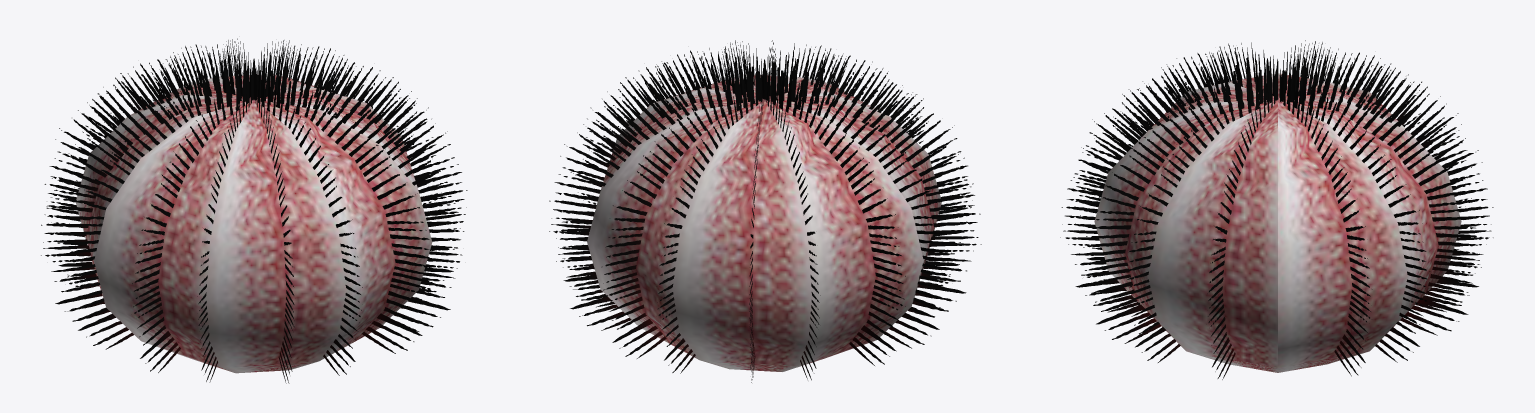
Rendered from urchinHairShortRed.fbx.
3 views of the same model, side by side, from view 1: azimuth 30°, elevation 25°; view 2: azimuth 150°, elevation 25°; view 3: azimuth 270°, elevation 25° (orthographic).
Visible parts, largest first — view 1: urchinWithHairShortRed; view 2: urchinWithHairShortRed; view 3: urchinWithHairShortRed.
Boxes of the visible parts, x1,y1,x2,y2 form: urchinWithHairShortRed: (41, 38, 467, 383); urchinWithHairShortRed: (549, 40, 981, 382); urchinWithHairShortRed: (1060, 40, 1493, 379).
Size of the model in its own units: 0.1402 by 0.0963 by 0.1402.
1 material, 1 textured.
